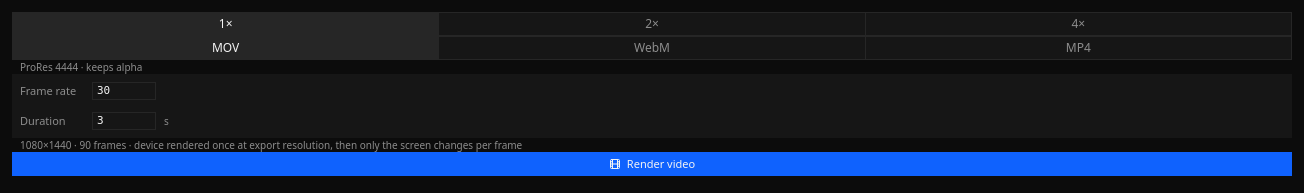
Test case: VideoExport › số khung = fps × thời lượng, và hiện ra trước khi bấm
Replace the text in the number field named "Duration in seconds" with "2": (124, 121) [92,112,156,130]
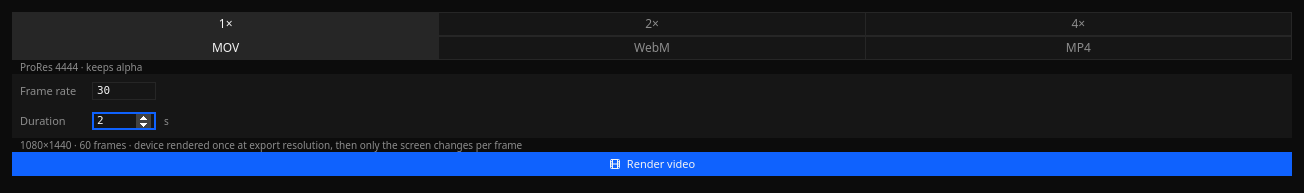
Check: the text "60 frames" is shown, box [20,138,522,152]
